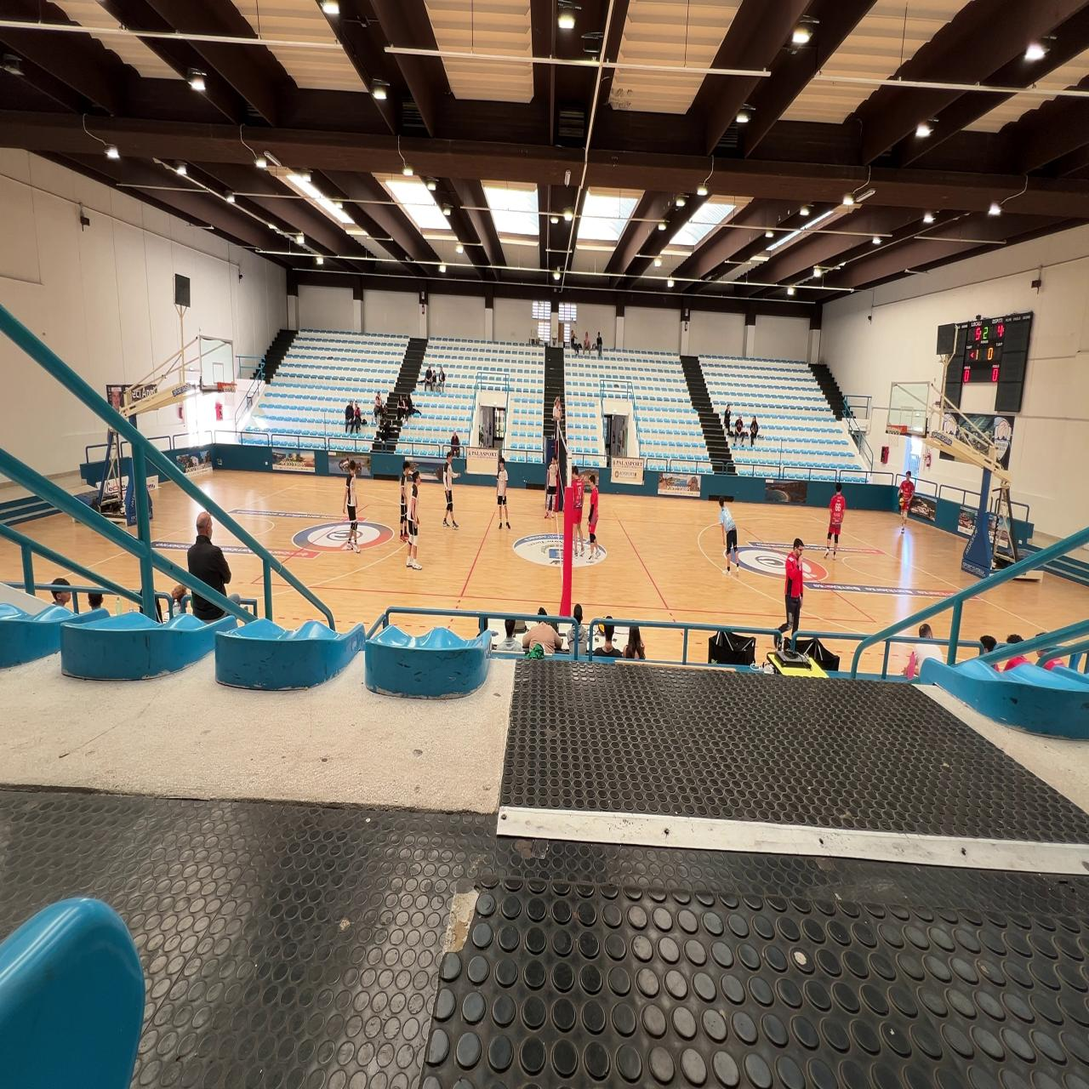ball: (899, 498, 904, 506)
